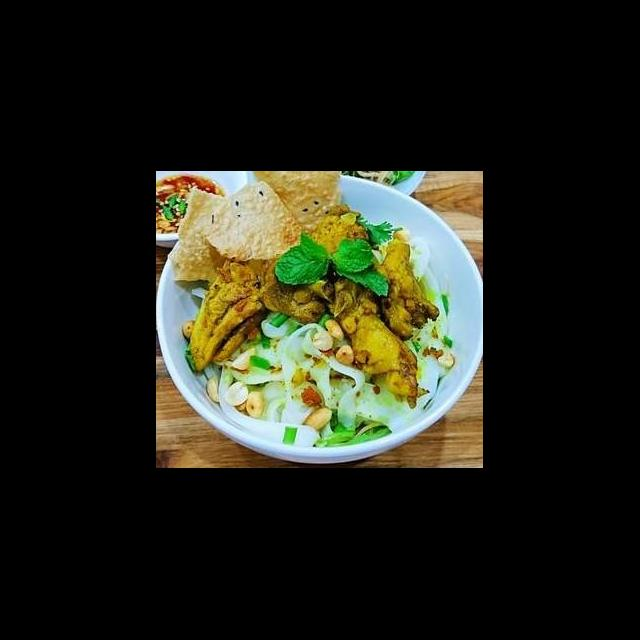banh da: (200, 178, 312, 262), (165, 184, 252, 286), (252, 172, 346, 242)
ca: (324, 296, 424, 411), (184, 258, 268, 374), (368, 236, 442, 342), (256, 258, 336, 326)
mi: (200, 307, 368, 448), (398, 314, 460, 414)
